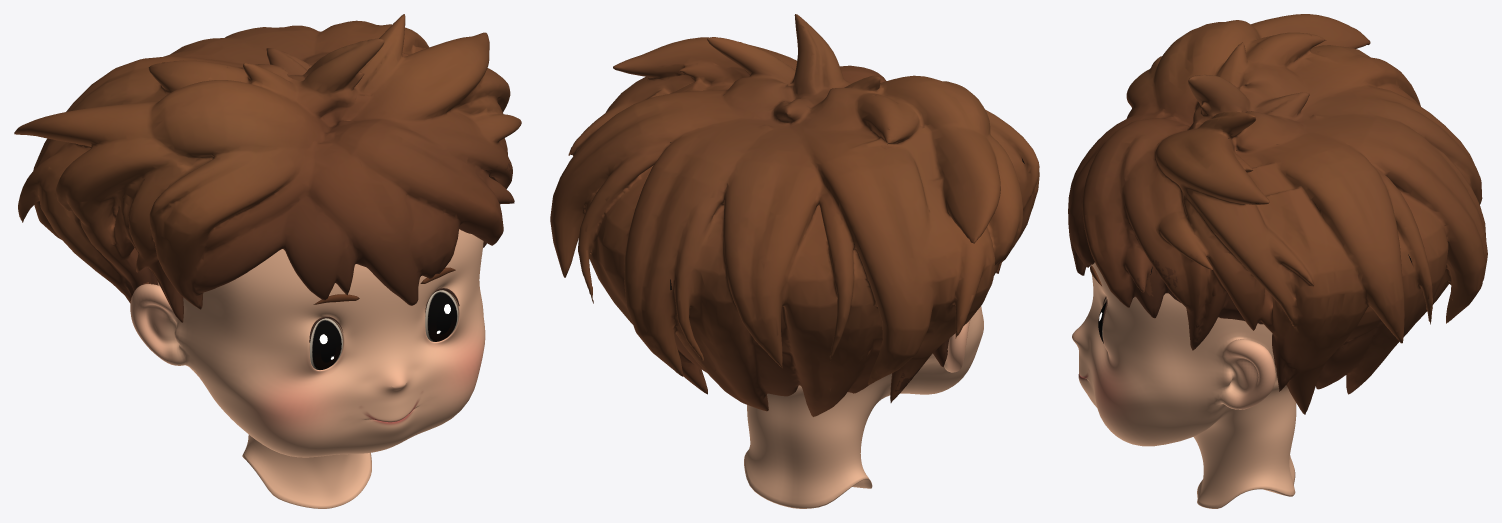
Rendered from head_candidate_v012.glb.
3 views of the same model, side by side, from view 1: azimuth 30°, elevation 25°; view 2: azimuth 150°, elevation 25°; view 3: azimuth 270°, elevation 25° (orthographic). The views are drawn at different scales.
Parts seen in each view (by area): view 1: SCULPT_HAIR, SCULPT_HEAD, SCULPT_EYE_L, SCULPT_EYE_R; view 2: SCULPT_HAIR, SCULPT_HEAD; view 3: SCULPT_HAIR, SCULPT_HEAD.
Part boxes in pixels (x1,y1,x2,y2): SCULPT_HAIR: (14, 14, 521, 322); SCULPT_HEAD: (130, 229, 485, 508); SCULPT_EYE_L: (425, 290, 458, 341); SCULPT_EYE_R: (310, 318, 342, 369); SCULPT_HAIR: (550, 14, 1039, 416); SCULPT_HEAD: (744, 306, 983, 508); SCULPT_HAIR: (1068, 14, 1487, 414); SCULPT_HEAD: (1072, 262, 1296, 508).
Bounding box in the file's own units: 0.4761 × 0.4726 × 0.4073.
5 materials, 3 textured.
